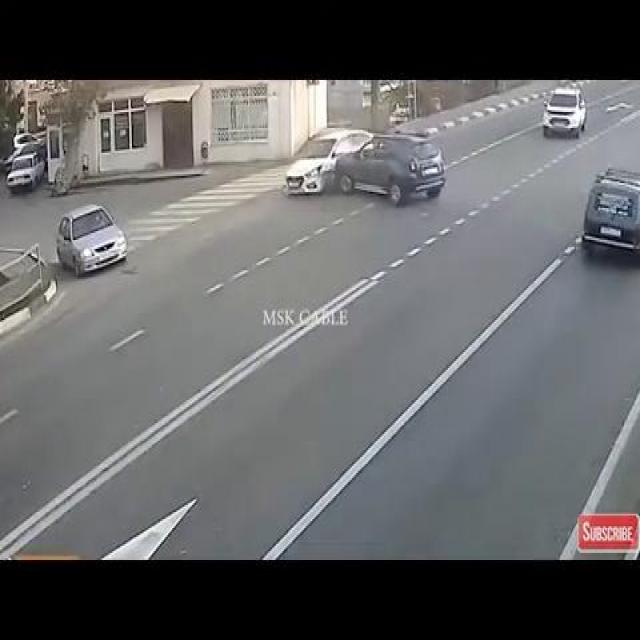accident: (290, 113, 433, 207)
